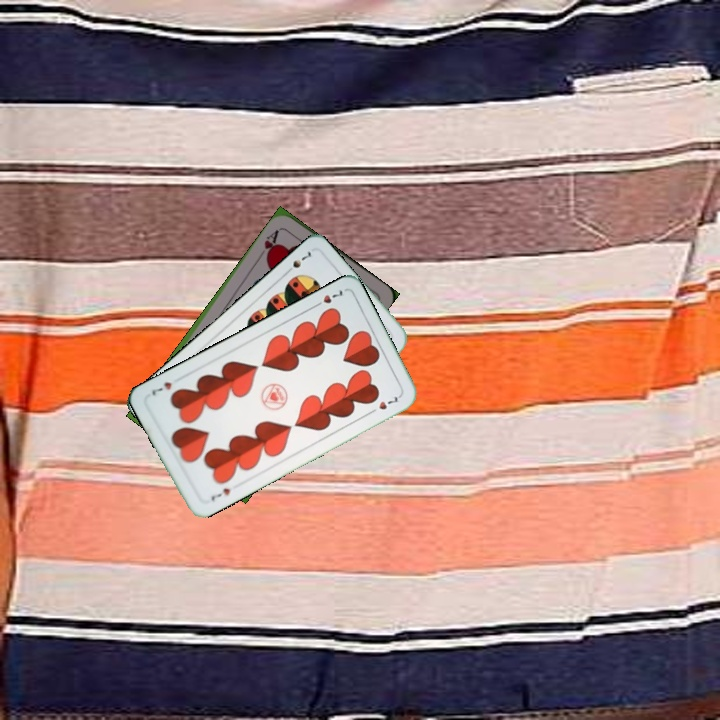H7: (309, 285, 345, 311), (207, 484, 233, 504)
HA: (260, 225, 283, 263)
S7: (281, 247, 314, 277)
